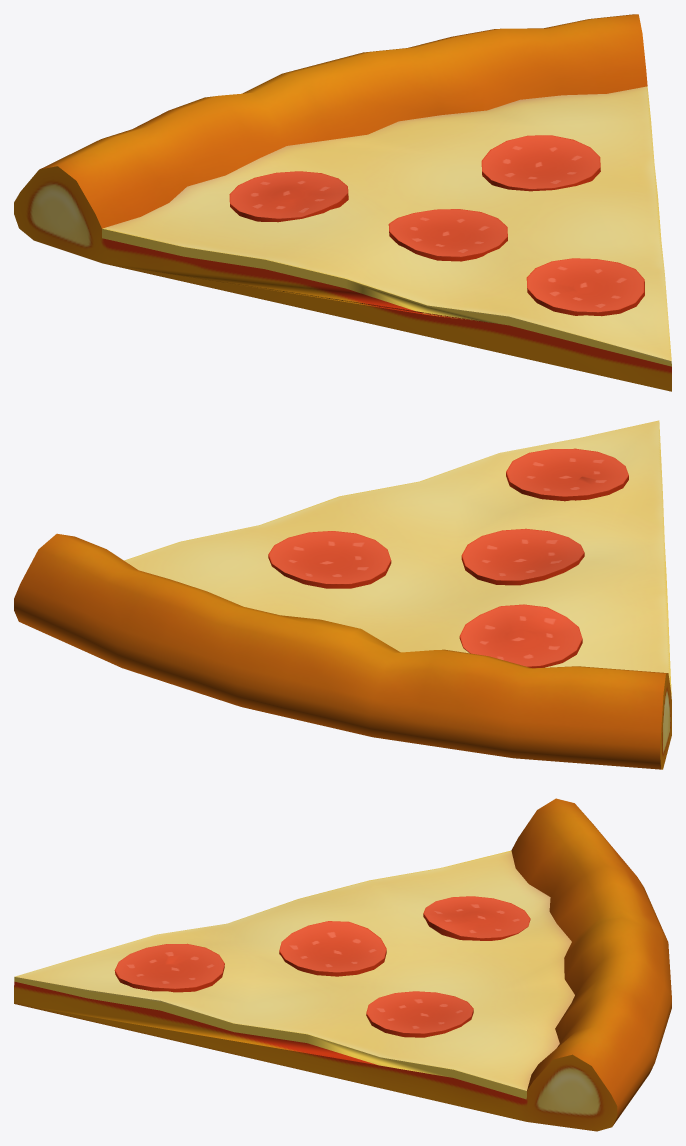
The model's file is ENV1810023.fbx.
3 renders of one model, top to bottom at view 1: azimuth 30°, elevation 25°; view 2: azimuth 150°, elevation 25°; view 3: azimuth 270°, elevation 25°, orthographic. The views are drawn at different scales.
Visible parts, largest first — view 1: smENV1810023; view 2: smENV1810023; view 3: smENV1810023.
Part boxes in pixels (x1,y1,x2,y2): smENV1810023: [14, 14, 671, 391]; smENV1810023: [14, 420, 671, 769]; smENV1810023: [14, 798, 671, 1131].
Size of the model in its own units: 19.11 by 2.46 by 19.5.
1 material, 1 textured.
